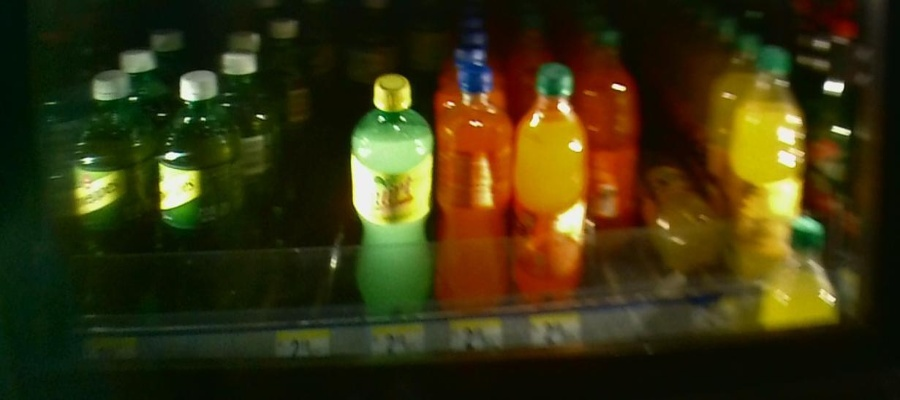bottle: (347, 72, 435, 314), (155, 73, 243, 307), (69, 64, 153, 307), (515, 58, 589, 310), (439, 66, 513, 314), (729, 45, 800, 278), (593, 28, 643, 258), (651, 165, 717, 284)
